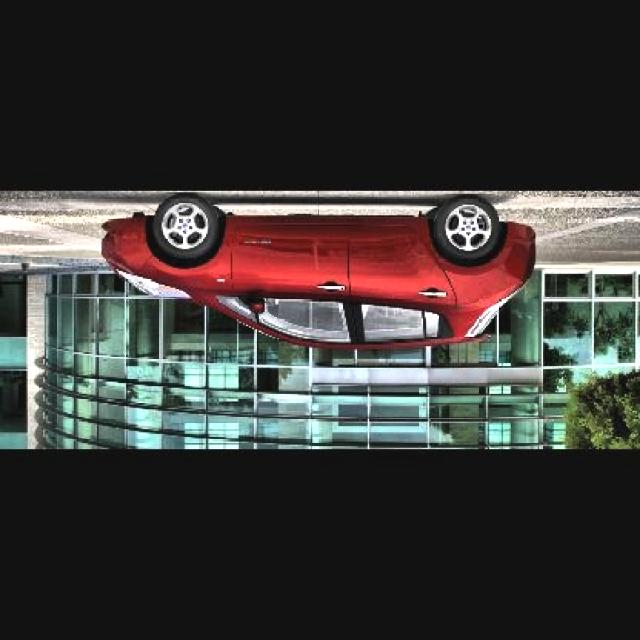maroon: (99, 196, 537, 352)
